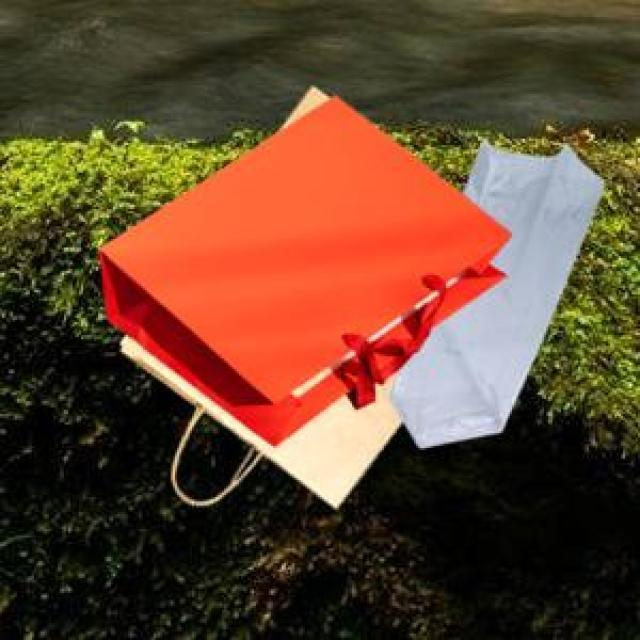paper: (96, 92, 506, 442), (117, 265, 399, 504)
